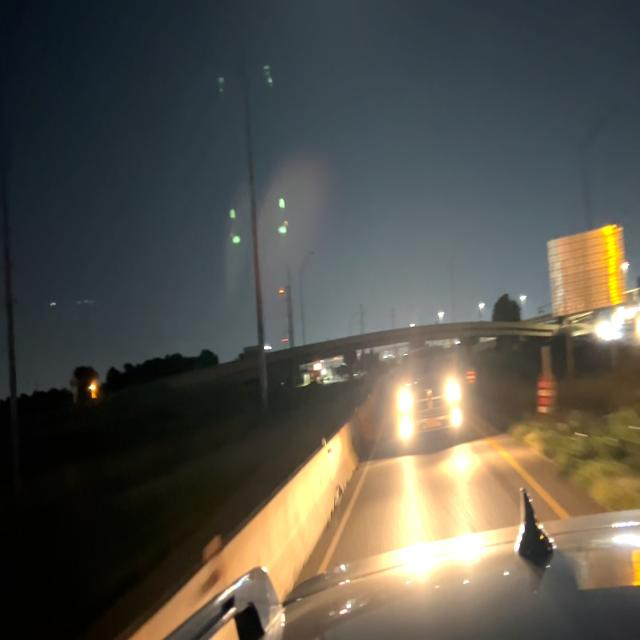back-of-sign: (547, 226, 626, 319)
